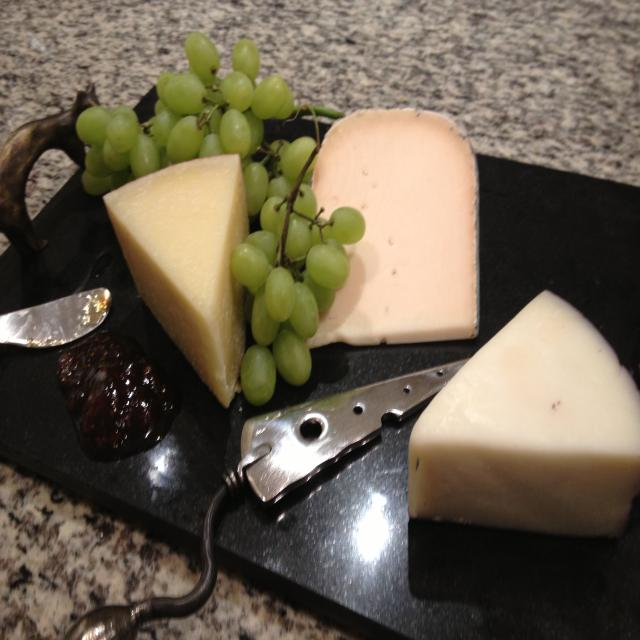cheese: (409, 290, 640, 537), (309, 108, 479, 347), (102, 153, 249, 407)
